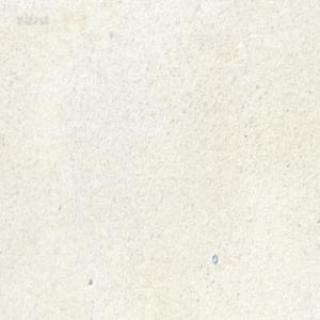Washertrack_idkeyframe: (211, 253, 216, 263)
